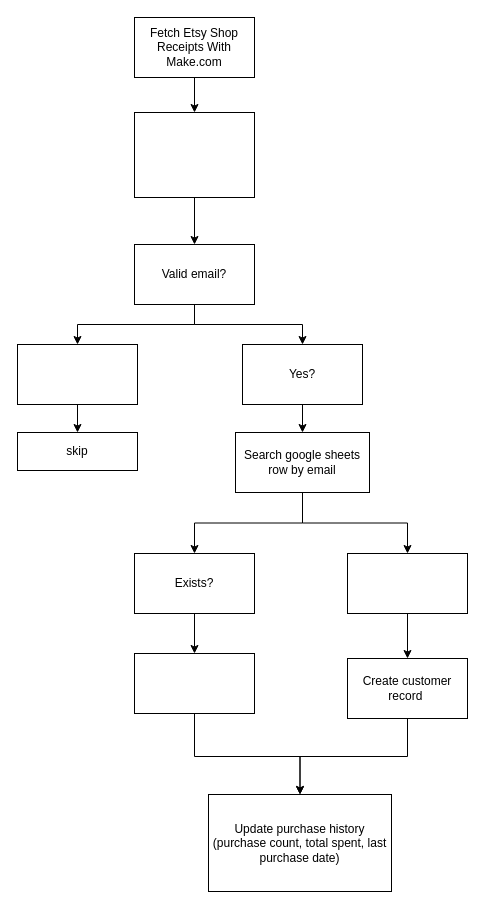
Some shapes in this 485 by 909 pixel diagram are drawn without their labels. The shapes that lost their labels are listed below. From the top down, each one's box as (x1, y1, x2, y2) in pixels, then its label:
(134, 112, 254, 198): Clean data (lowercase email, validate email)
(16, 344, 138, 404): no?
(346, 552, 468, 614): Does not exist?
(134, 652, 254, 714): Update customer record
